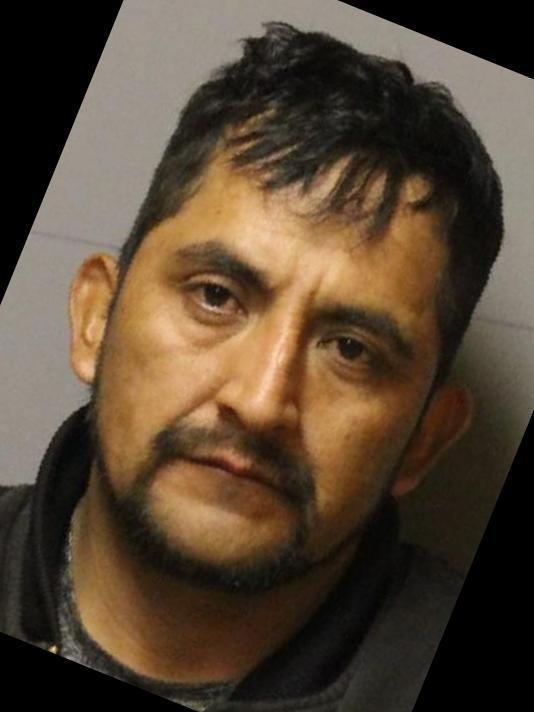Drunk: (142, 109, 421, 566)
